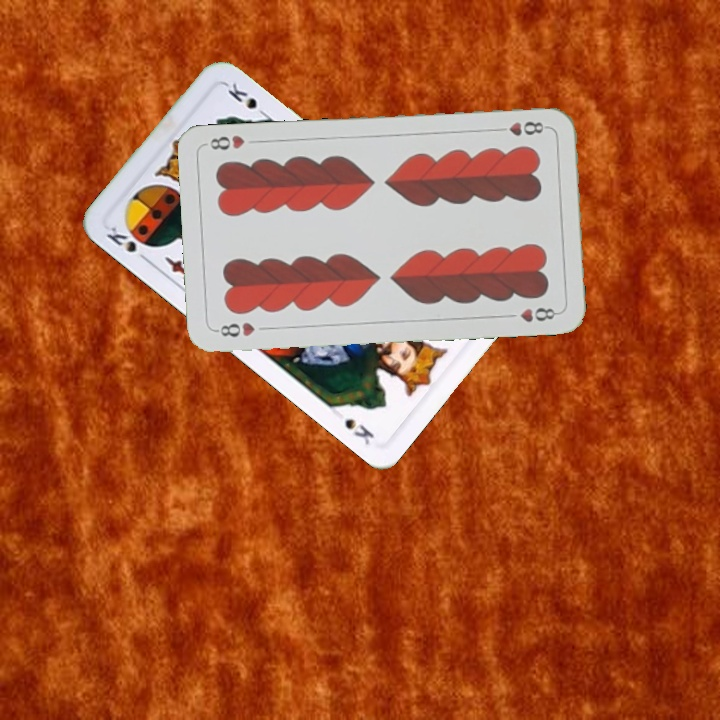H8: (491, 117, 550, 138), (211, 318, 258, 340)
SK: (102, 222, 154, 266)
